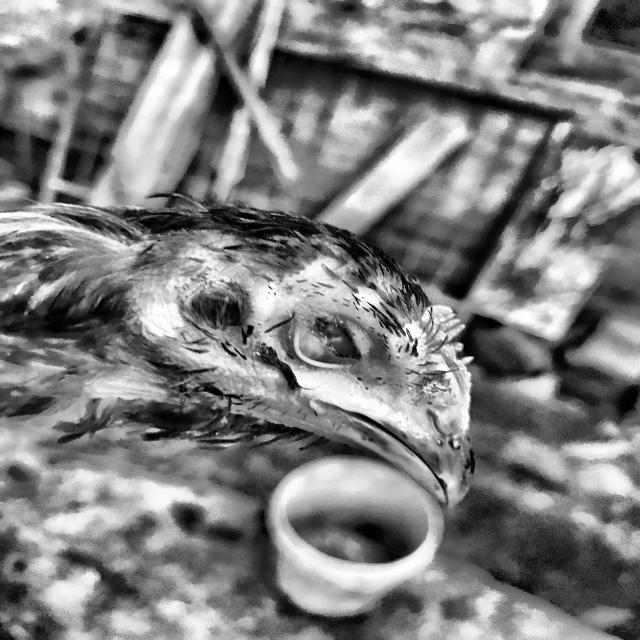Coryza: (74, 185, 530, 548)
